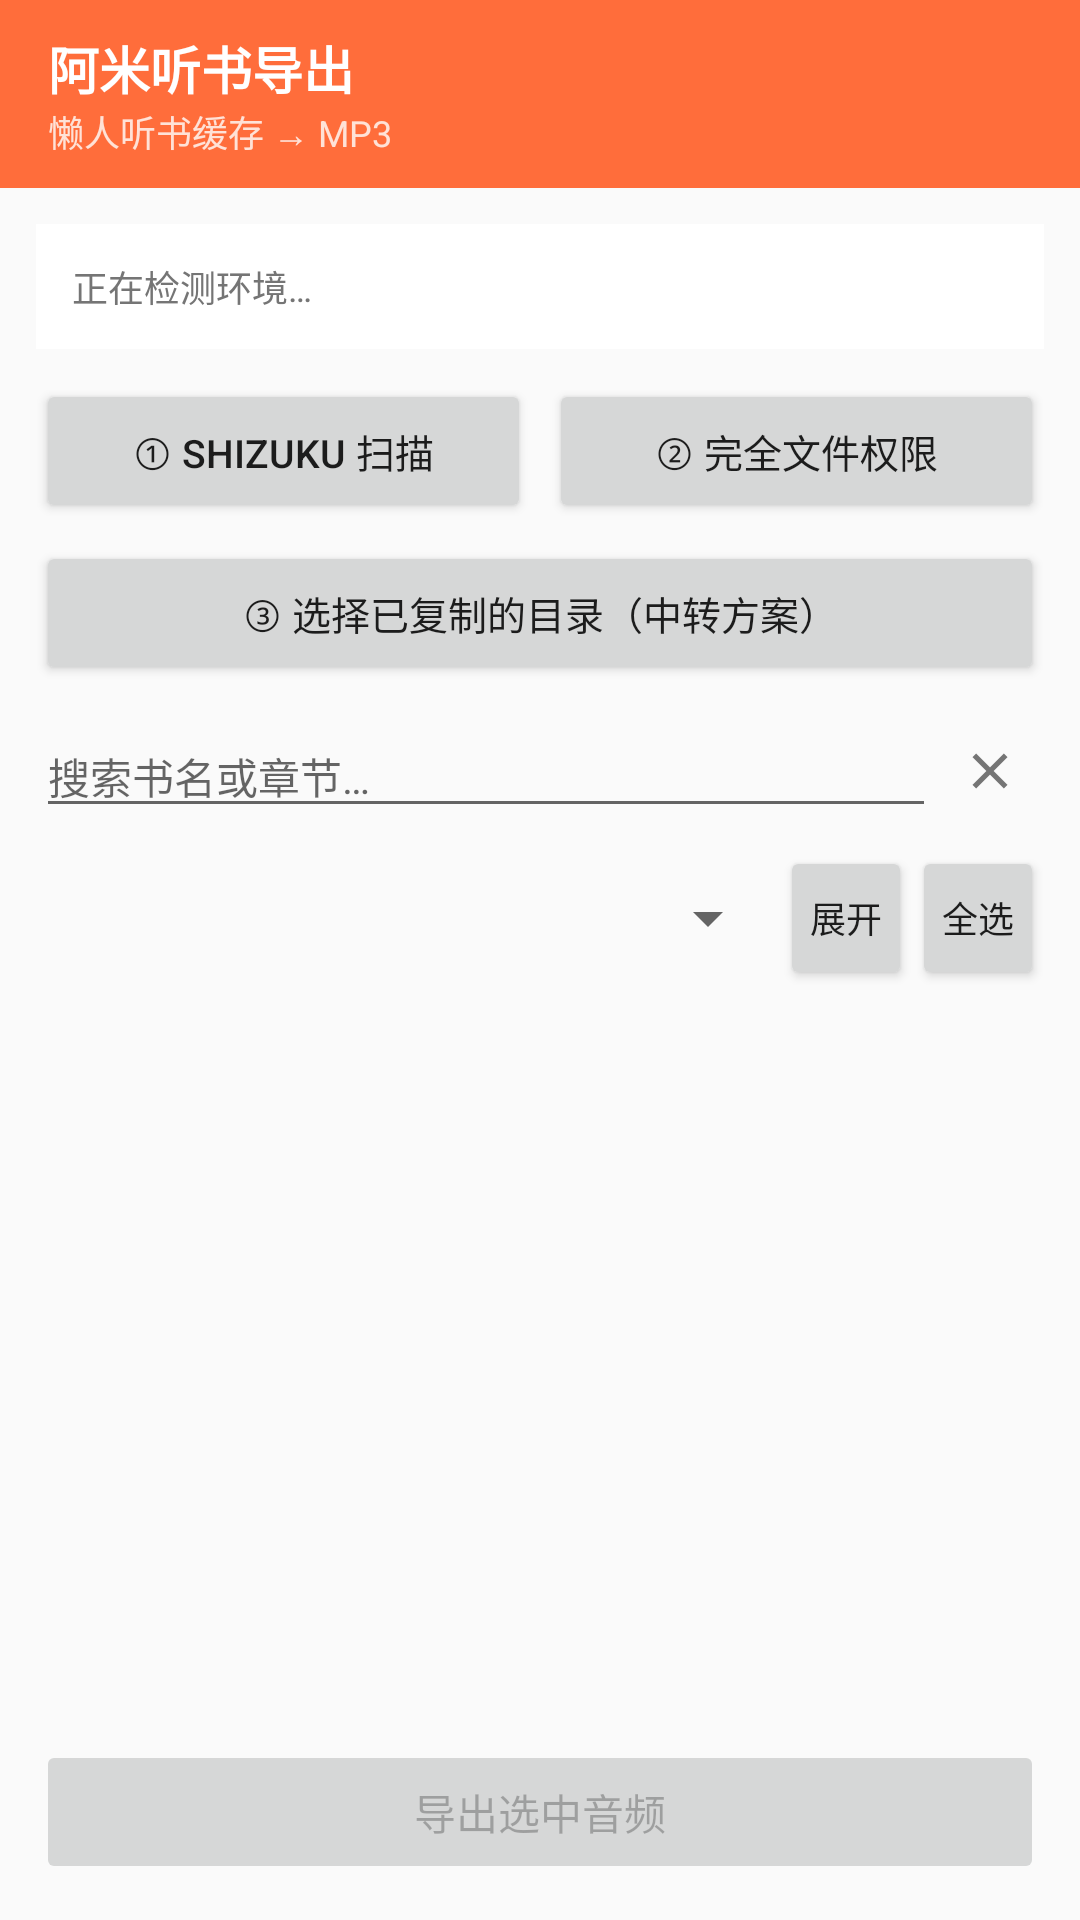

Where to tap for icons on this 1080 × 1920 app screen, as point (x, y):
清空搜索: point (990, 771)
